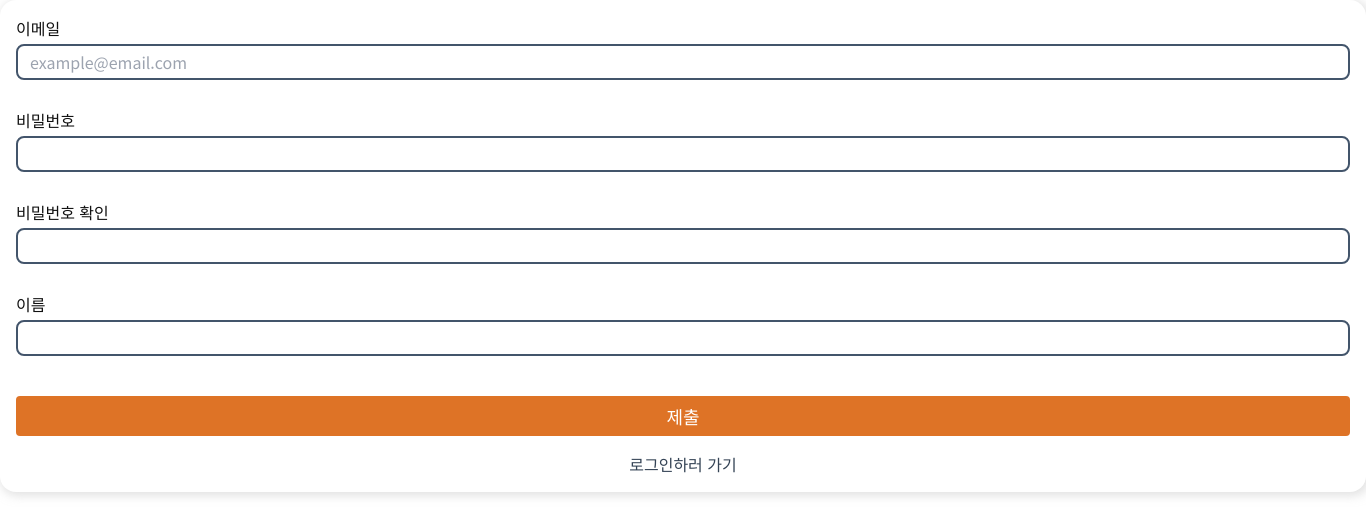
Test: Member/SignupForm › 이메일 › invalid한 이메일을 입력하면 validationMessage가 표시된다
In the field labelled "이메일": (683, 62) [16,44,1350,80], type "1@"
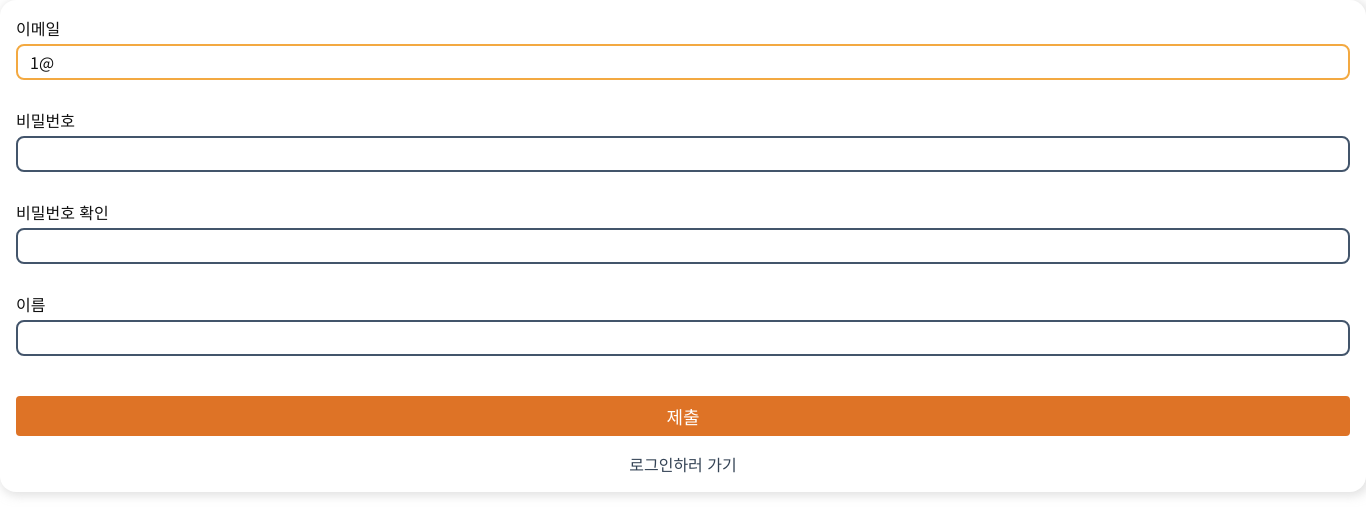
Press Tab
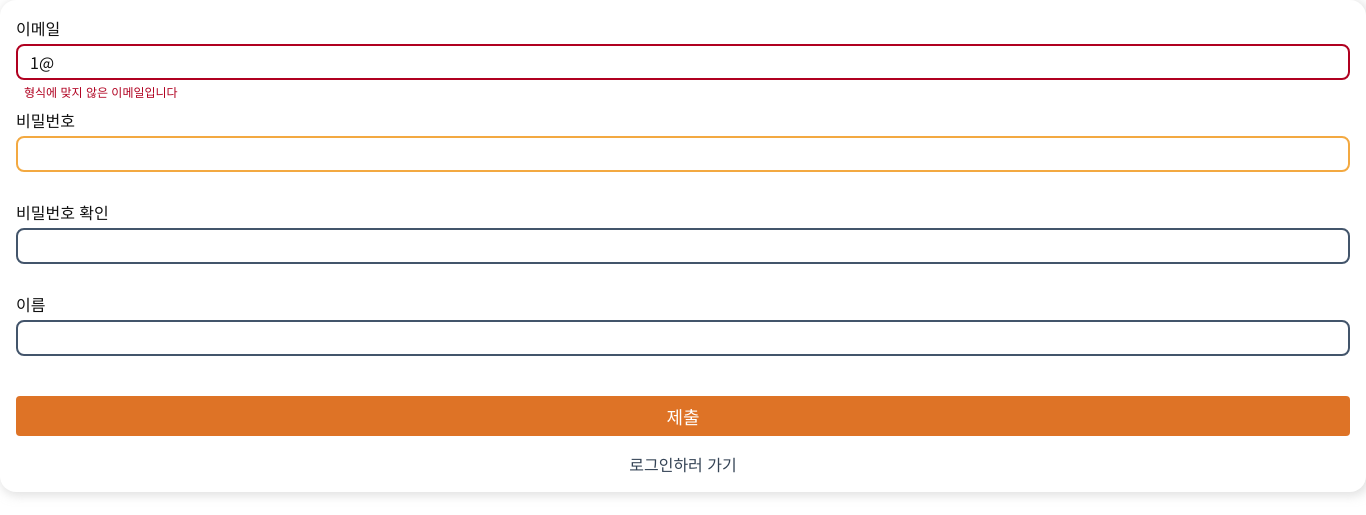
Expected: the text "형식에 맞지 않은 이메일입니다" is shown, [24,83,178,100]
